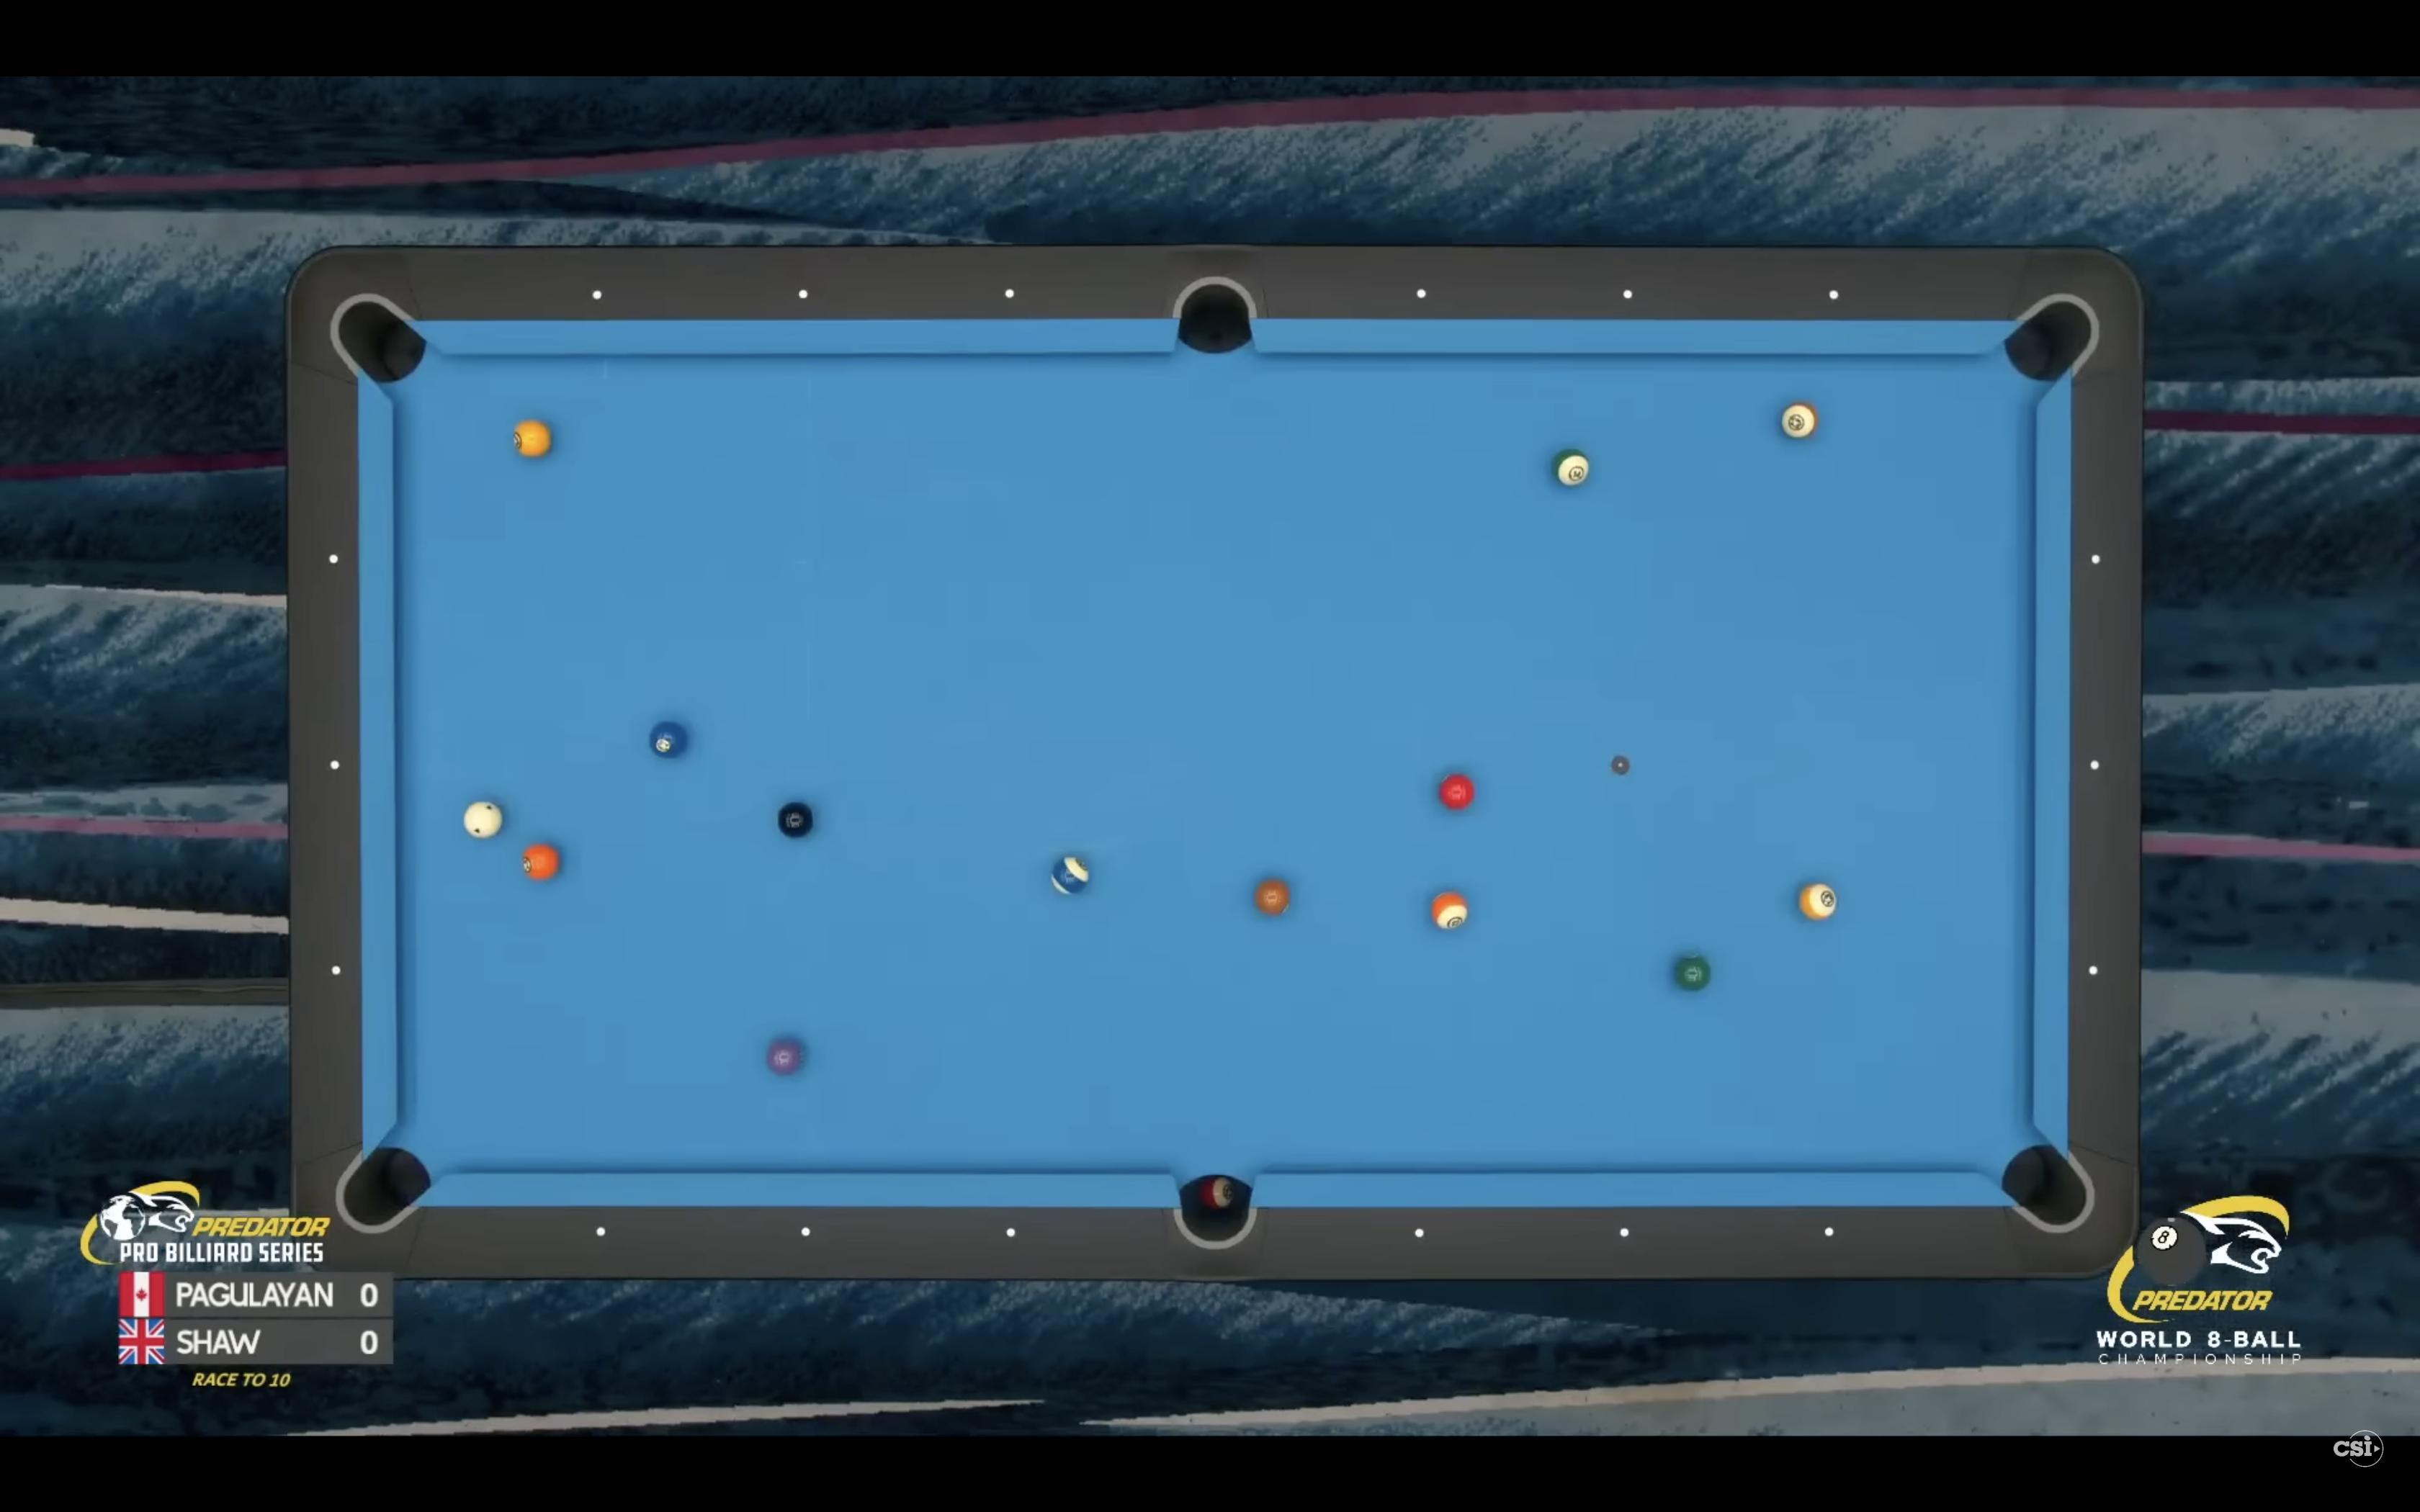Black: (775, 801, 815, 838)
Cue: (463, 800, 505, 841)
Dot: (329, 963, 343, 975), (800, 1226, 812, 1239), (1828, 289, 1840, 301), (591, 289, 603, 301), (328, 552, 340, 564), (2087, 963, 2098, 977), (594, 1226, 606, 1237), (1005, 1226, 1016, 1239), (1619, 1226, 1629, 1239), (2091, 552, 2101, 564), (1622, 289, 1634, 300), (1416, 287, 1427, 300), (1415, 1228, 1425, 1239), (1824, 1226, 1835, 1237), (2089, 759, 2099, 770), (1005, 289, 1016, 300), (798, 289, 808, 300), (329, 759, 340, 770)
Solid: (521, 841, 563, 881), (512, 418, 554, 458), (765, 1038, 805, 1078), (1436, 773, 1477, 812), (1673, 955, 1713, 993), (650, 721, 690, 758), (1254, 878, 1291, 915)
Striped: (1798, 881, 1840, 921), (1430, 890, 1469, 932), (1781, 401, 1819, 441), (1551, 448, 1589, 488), (1049, 857, 1091, 894)
